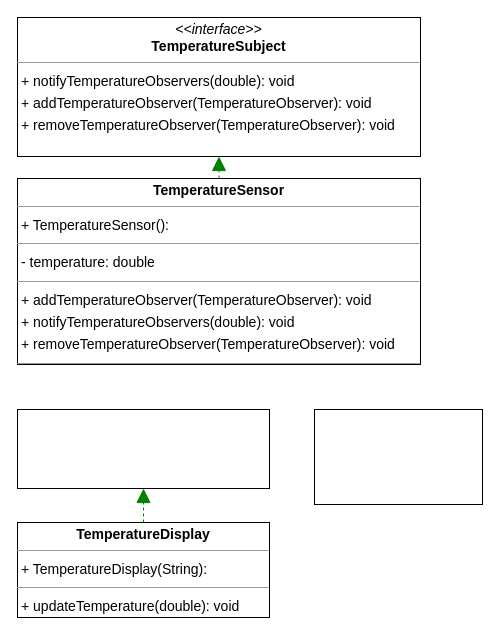
The diagram is 500 pixels wide and 635 high, and some of its shapes have lost their labels. Each missing label, with the box of its shape:
<<interface>> TemperatureObserver + updateTemperature(double): void: (16, 408, 270, 488)
Main + Main(): + main(String[]): void: (314, 408, 482, 504)
